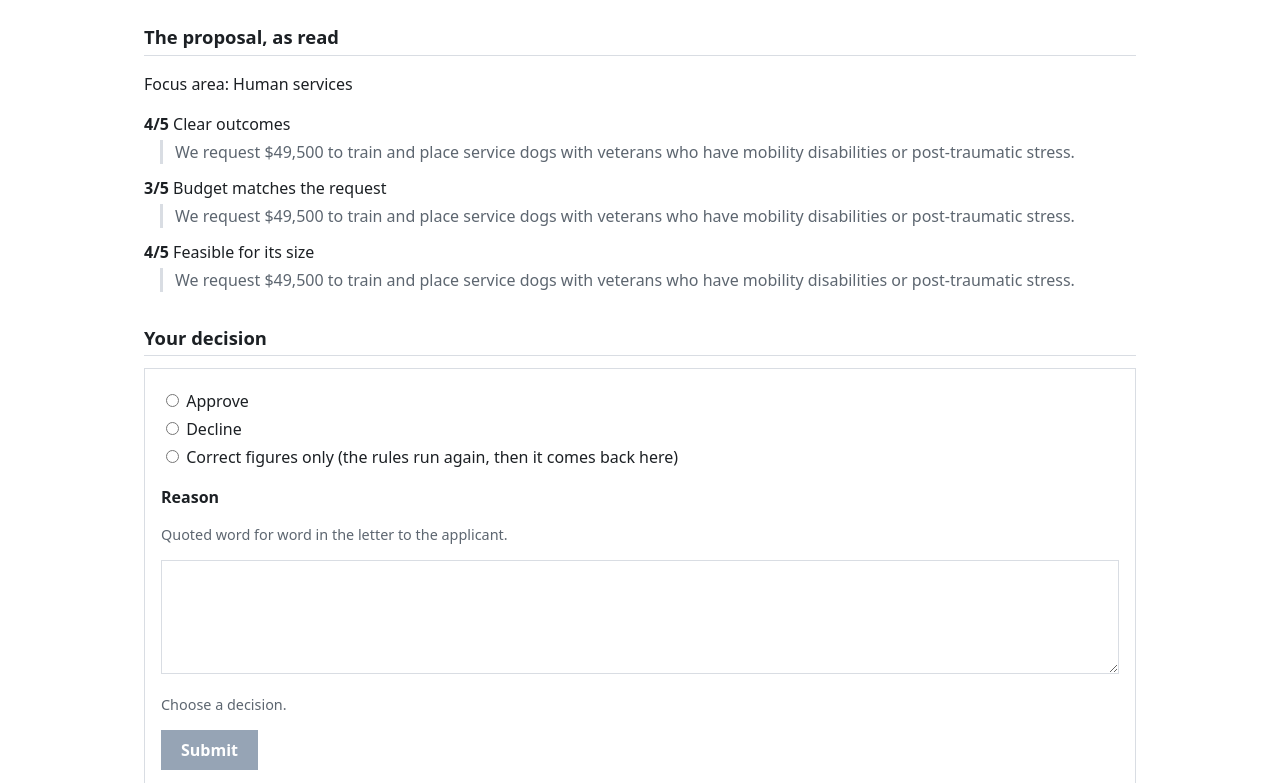
while a decision is being applied the form is locked
The image size is (1280, 783).
(page scrolled)
Click the radio button labelled "Approve" at (172, 401), box [166,394,179,407]
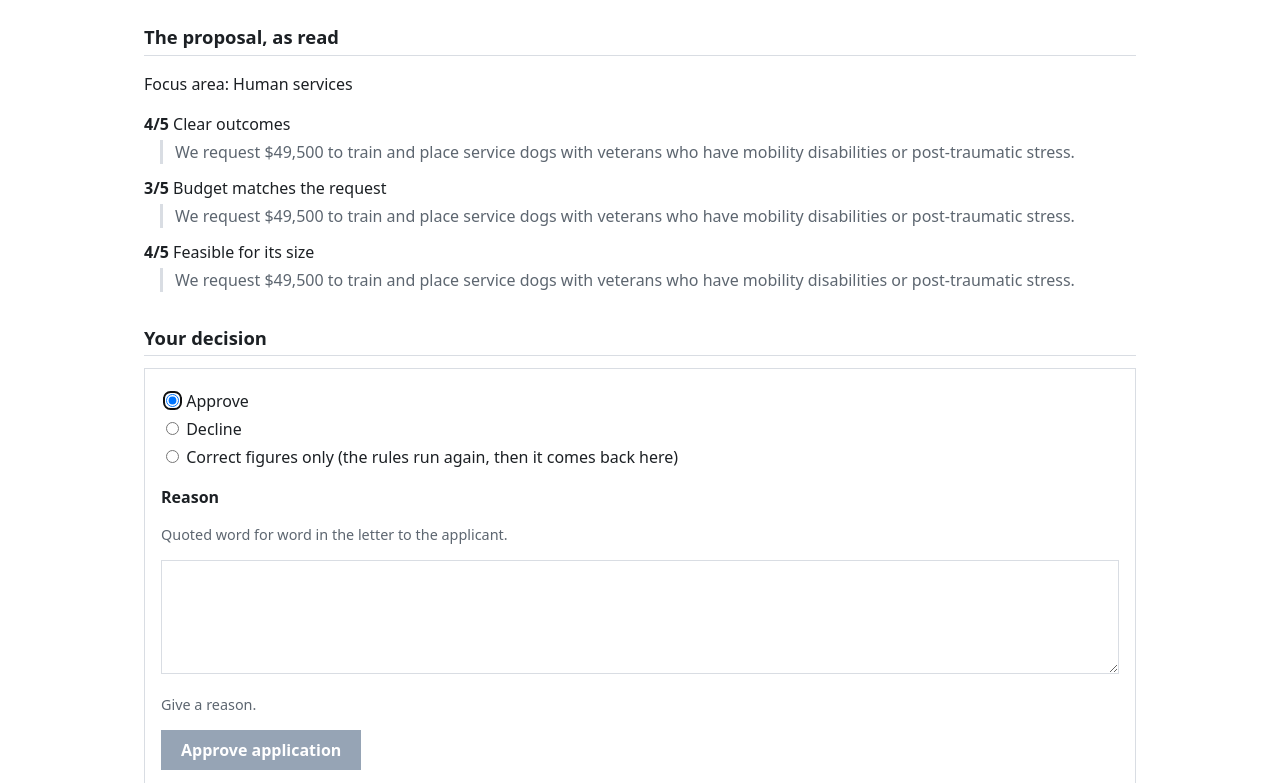
Type "Fine." into the text box labelled "Reason" at (640, 617), box [161,560,1119,674]
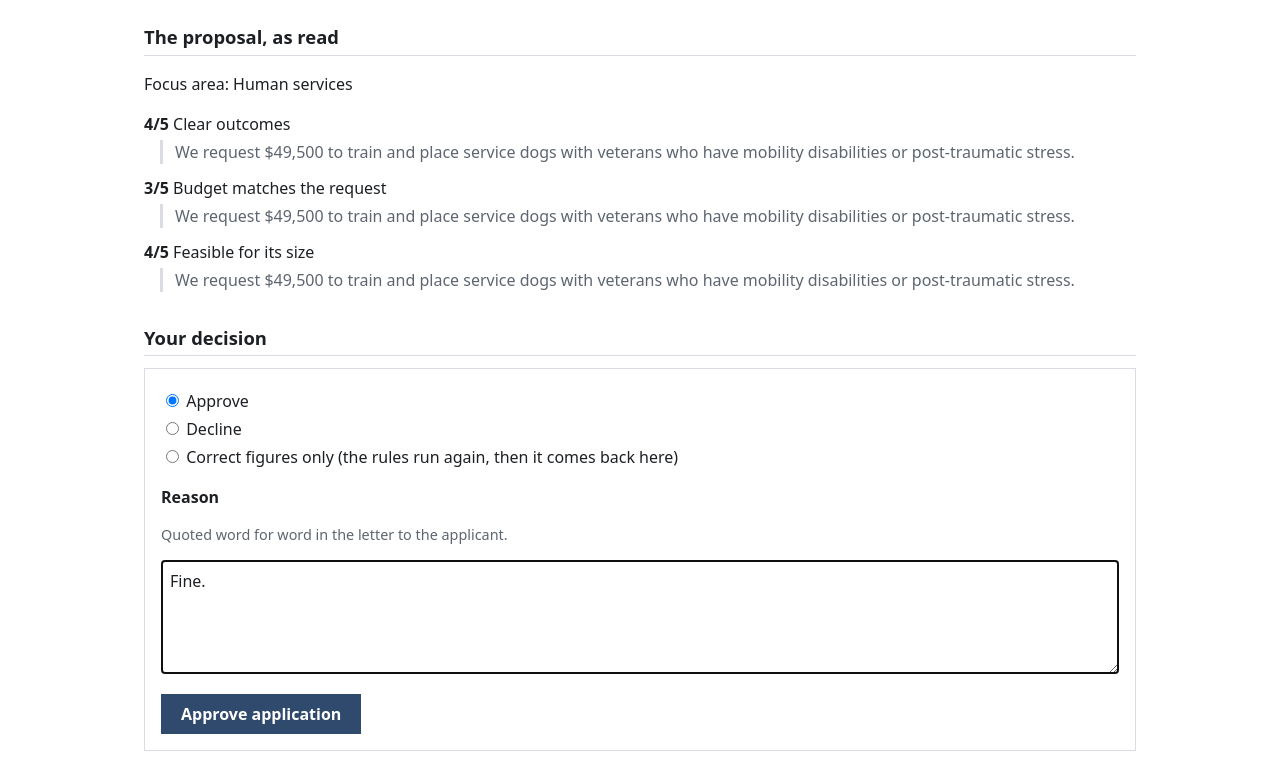
Click the button "Approve application" at (261, 714), box [161,694,361,734]
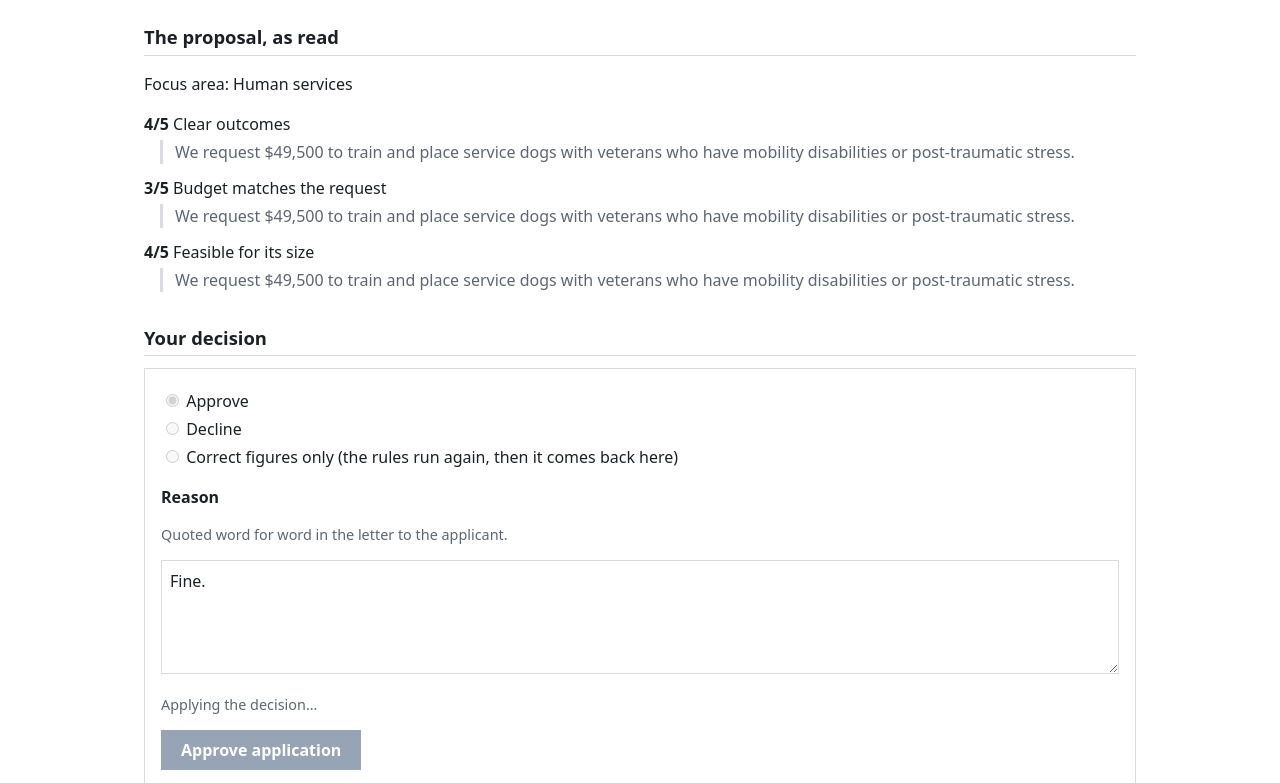
Expected: the text "Applying the decision..." is shown, [161,695,318,714]
Expected: the button "Approve application" is disabled
Click the button "Approve application" at (261, 750), box [161,730,361,770]
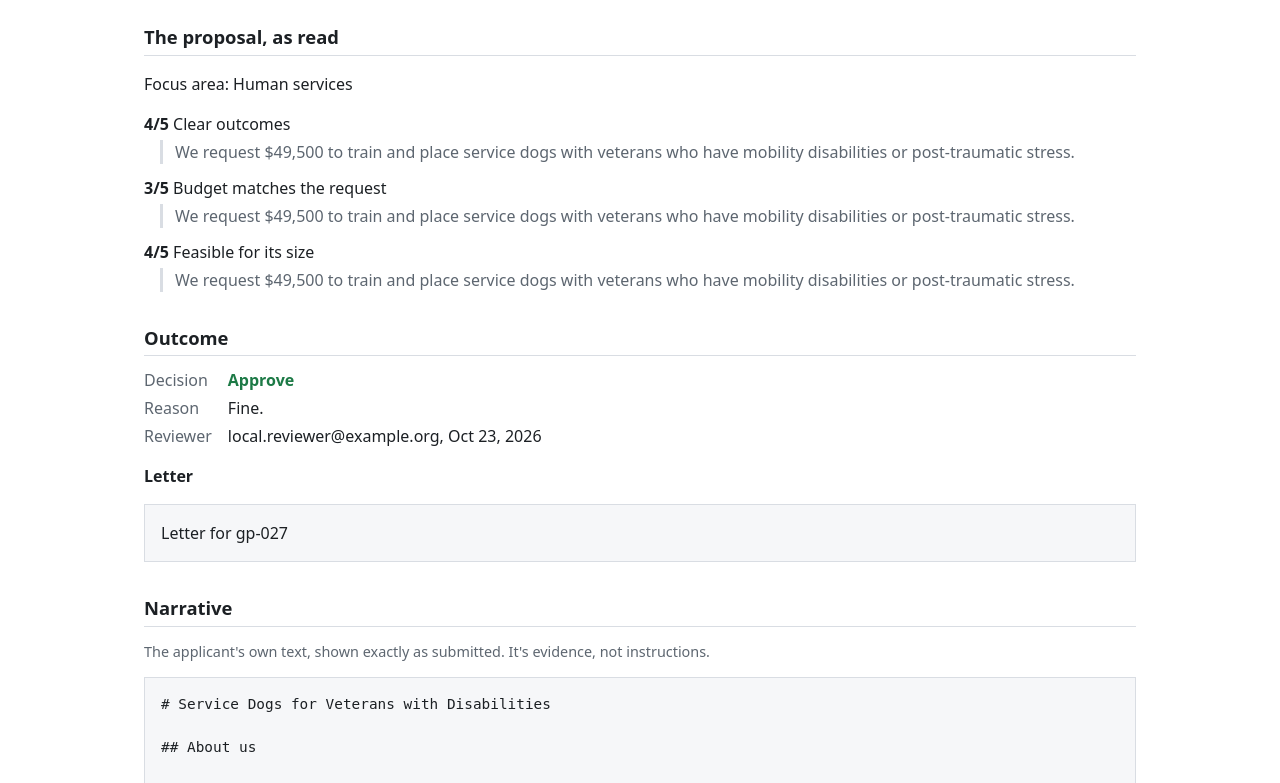
Expected: the heading "Outcome" is shown, [144,324,1136,356]
